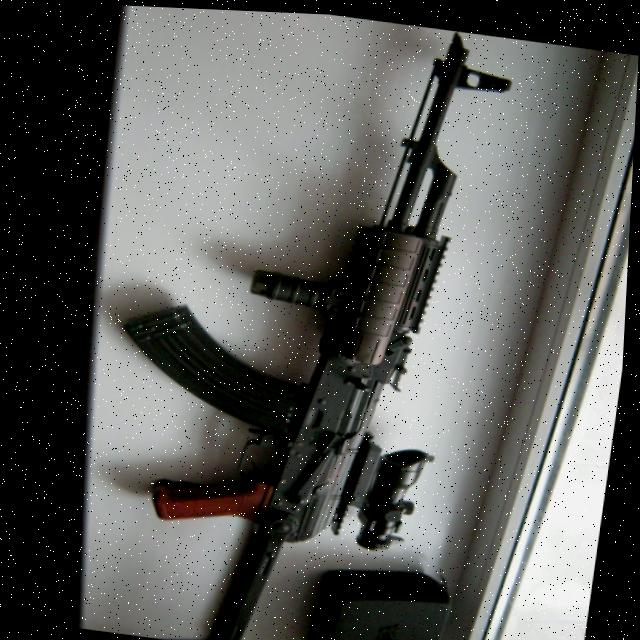firearm: (80, 4, 523, 640)
